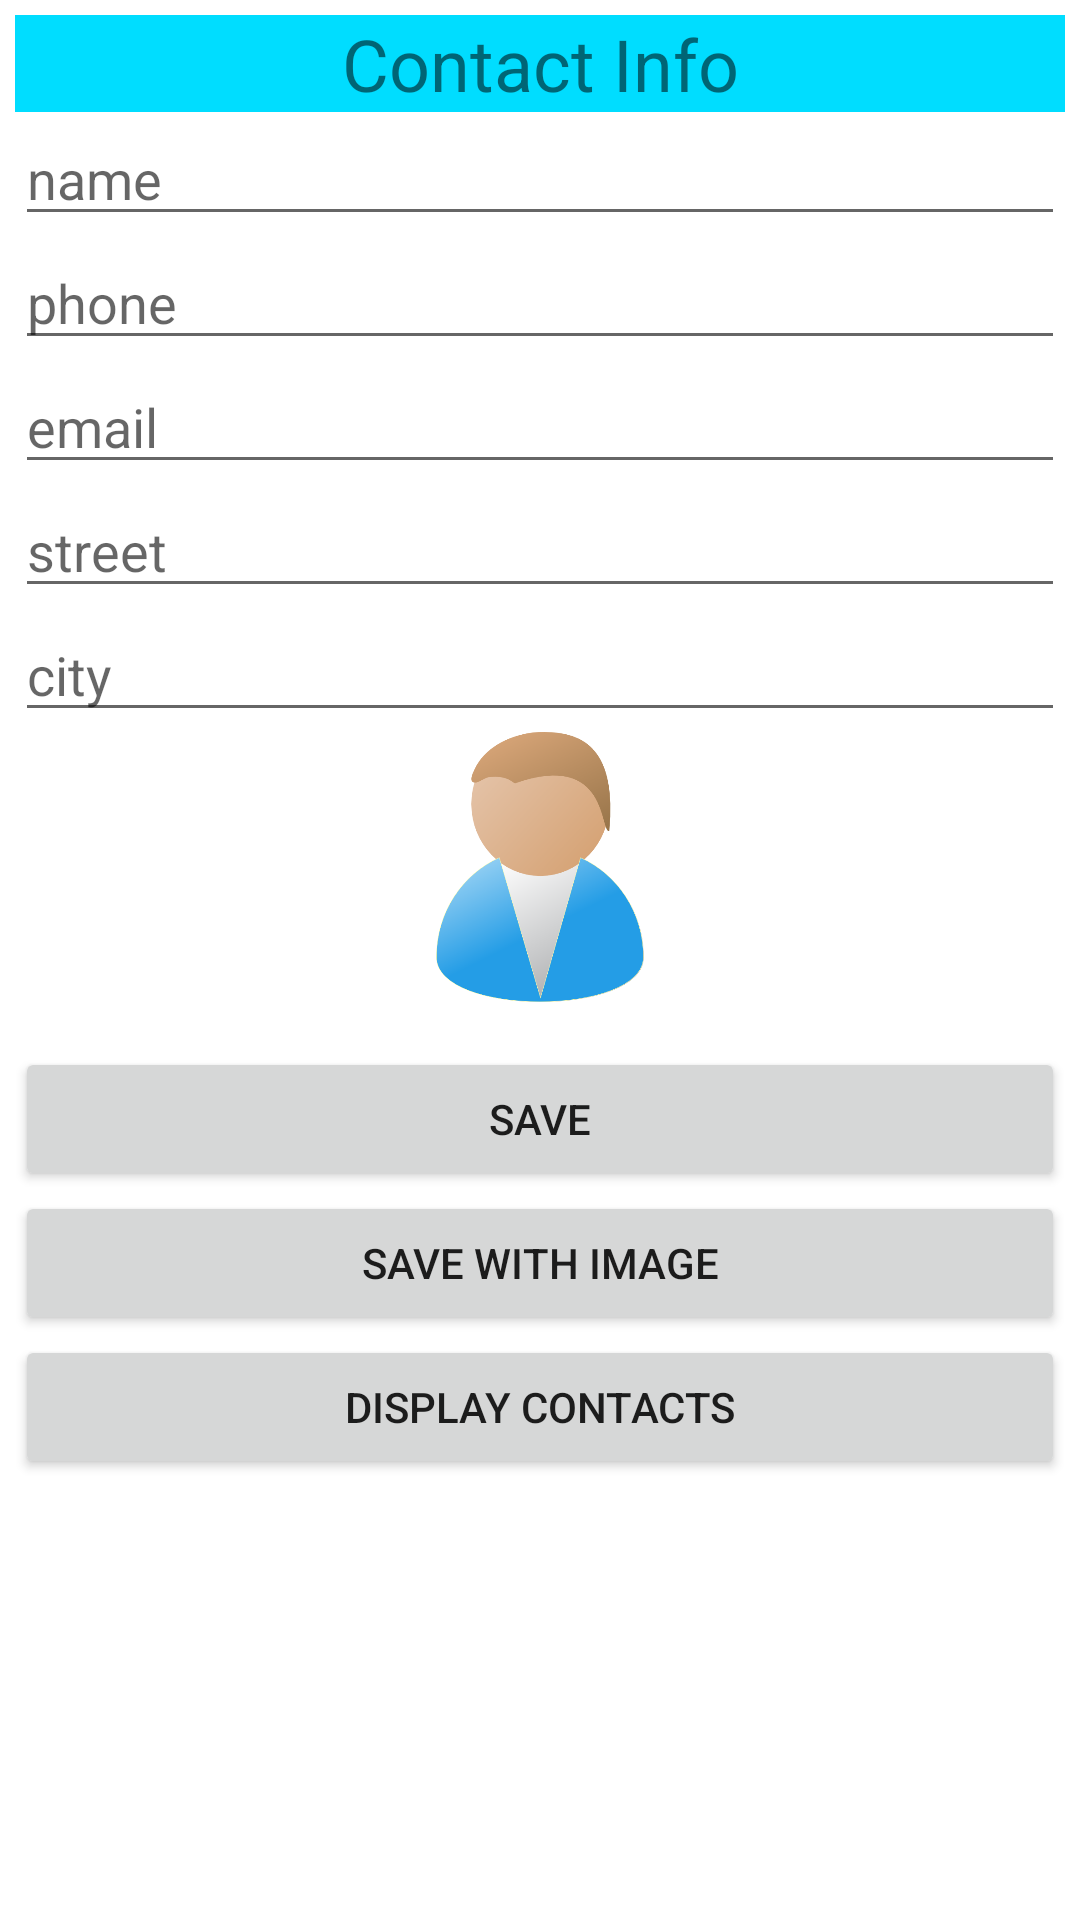

Icons on this 1080x1920 Android screen, each with its box as (x1, y1, x2, y2):
contact: (436, 732, 644, 1002)
